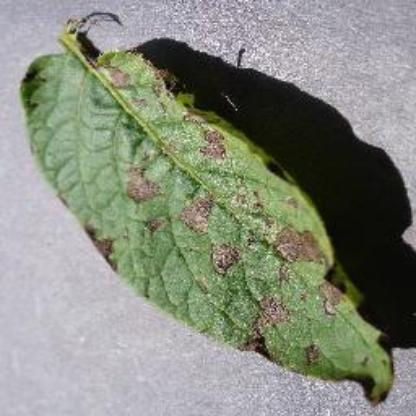Early-Blight: (21, 9, 396, 407)
